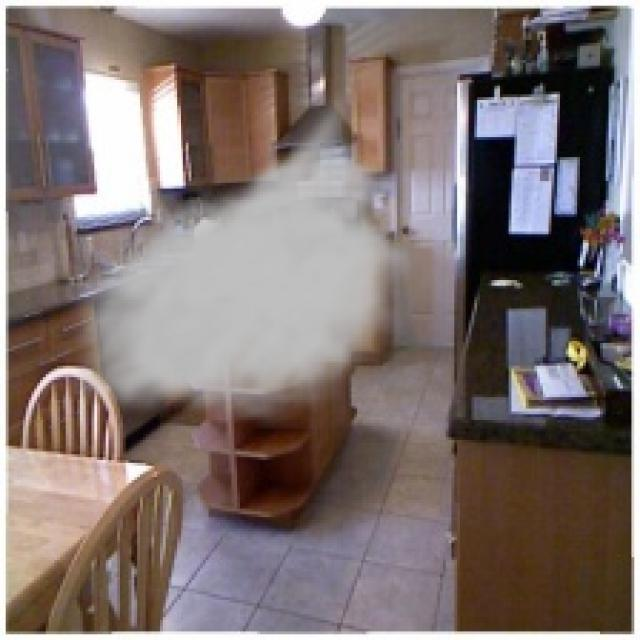Smoke: (51, 86, 423, 428)
